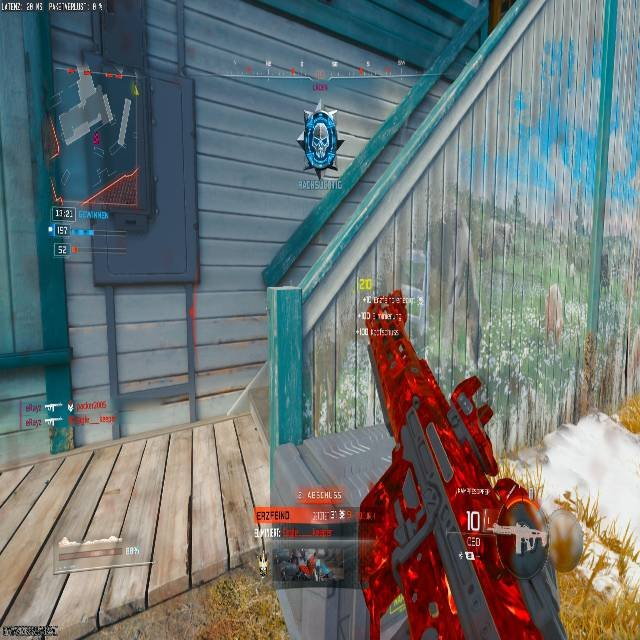player: (297, 109, 340, 179)
